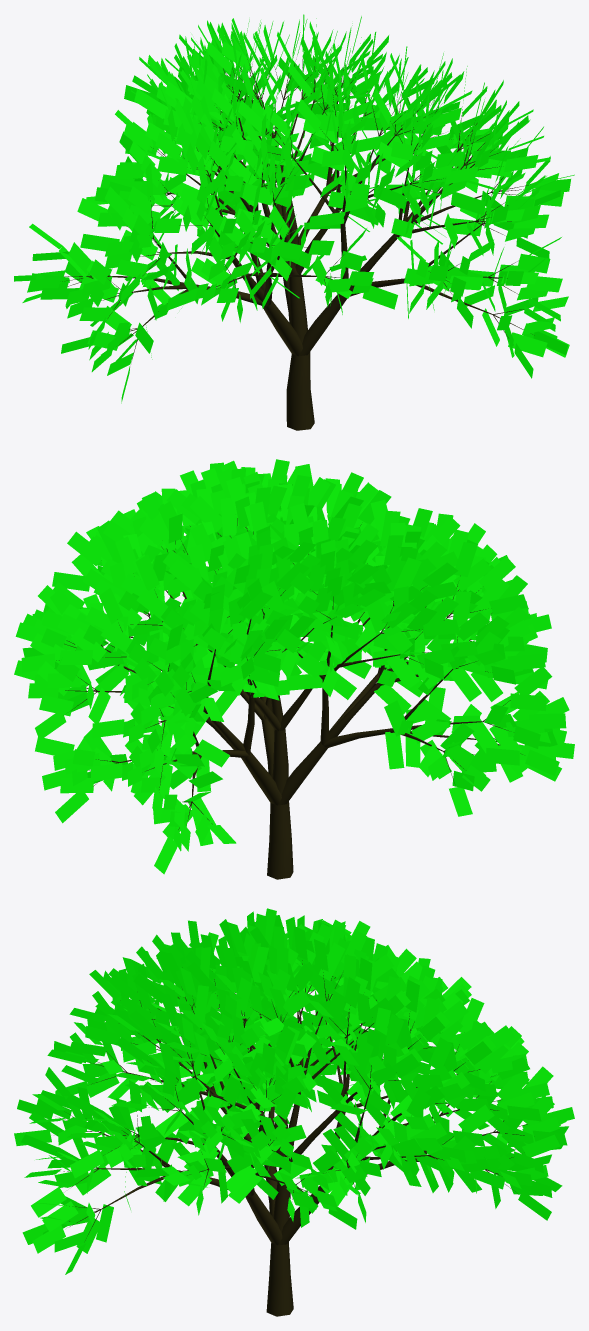
Rendered from TreesModel.fbx.
The picture shows the model from 3 angles, top to bottom: view 1: azimuth 30°, elevation 25°; view 2: azimuth 150°, elevation 25°; view 3: azimuth 270°, elevation 25°; orthographic projection. The views are drawn at different scales.
Parts seen in each view (by area): view 1: cherryTree1Leaf, cherryTree1Main; view 2: cherryTree1Leaf, cherryTree1Main; view 3: cherryTree1Leaf, cherryTree1Main.
Boxes of the visible parts, x1,y1,x2,y2 form: cherryTree1Leaf: [14, 14, 574, 403]; cherryTree1Main: [62, 59, 534, 430]; cherryTree1Leaf: [14, 459, 574, 874]; cherryTree1Main: [56, 518, 522, 879]; cherryTree1Leaf: [14, 908, 574, 1274]; cherryTree1Main: [56, 960, 527, 1316].
Size of the model in its own units: 18.71 by 14.03 by 19.17.
